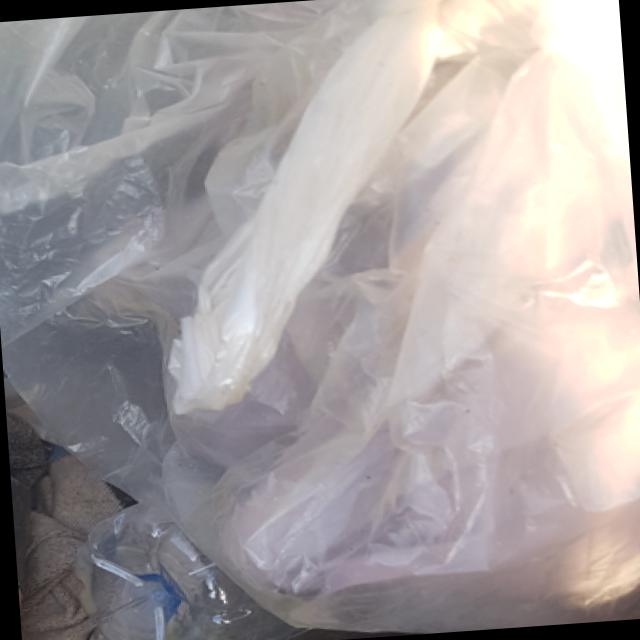general: (0, 0, 640, 503), (65, 489, 312, 640)
